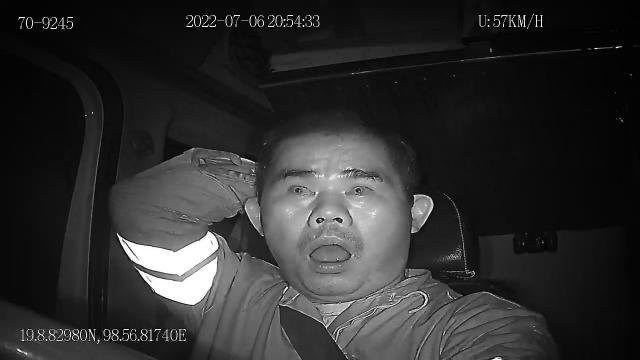SafeDriving: (338, 174, 382, 204), (280, 173, 322, 203)
Seatbelt: (278, 302, 350, 360)
